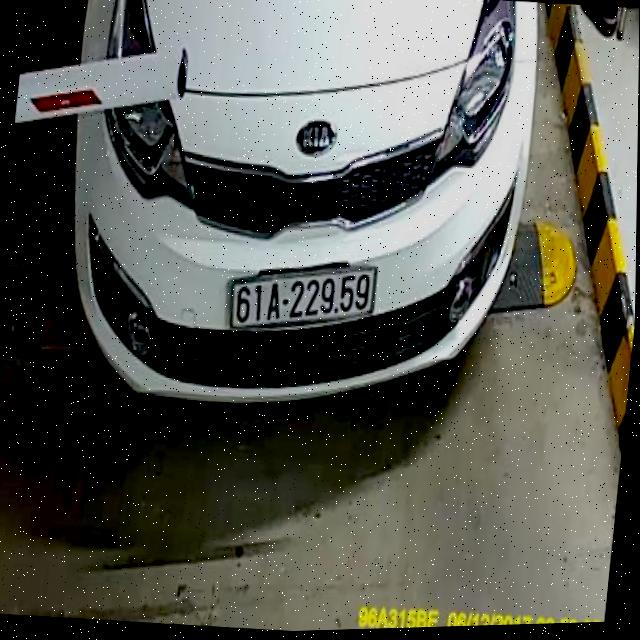car: (29, 0, 558, 450)
plate: (217, 256, 385, 337)
